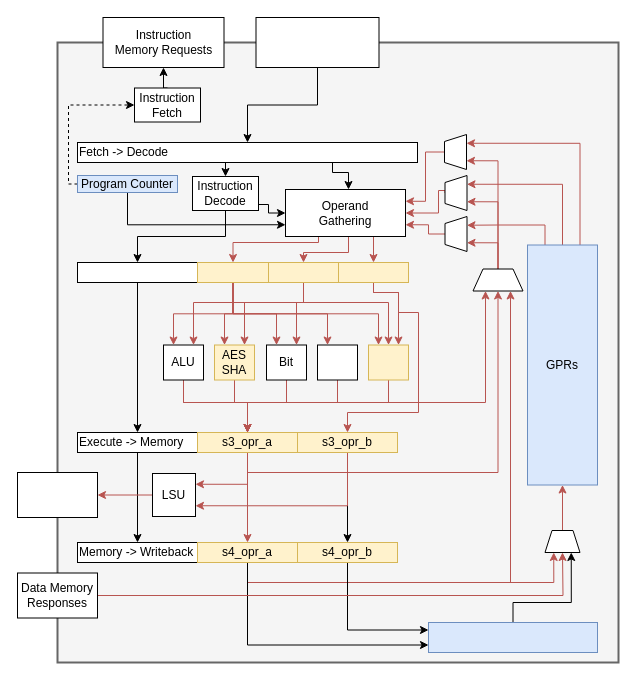
Image size: 637x681. Some labels were removed from this diagram. Here are the shapes that lost their labels. From the top down, the box of each, then its label:
(255, 16, 379, 68): Instruction Memory Responses
(76, 262, 198, 282): Decode -> Execute
(196, 262, 268, 282): s2_opr_a
(268, 262, 338, 282): s2_opr_b
(338, 262, 408, 282): s2_opr_c
(316, 344, 358, 380): RNG
(368, 344, 408, 380): MUL DIV
(16, 472, 98, 518): Data Memory Requests
(428, 622, 598, 652): Control & Status Registers
